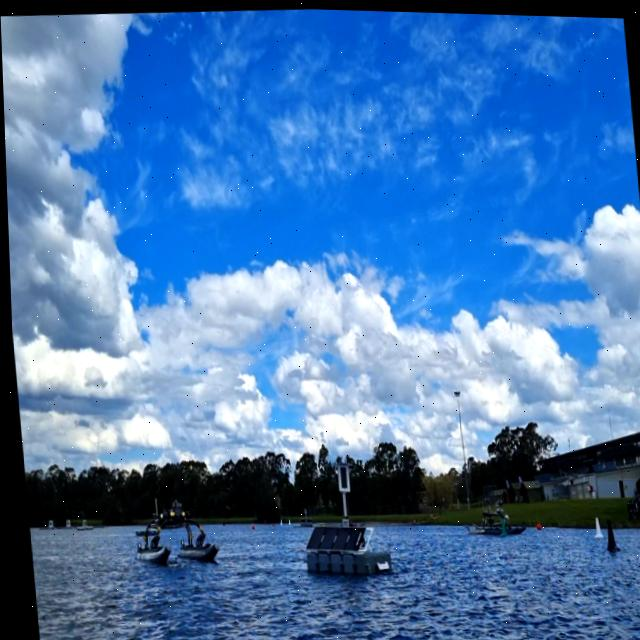led: (334, 463, 345, 488)
